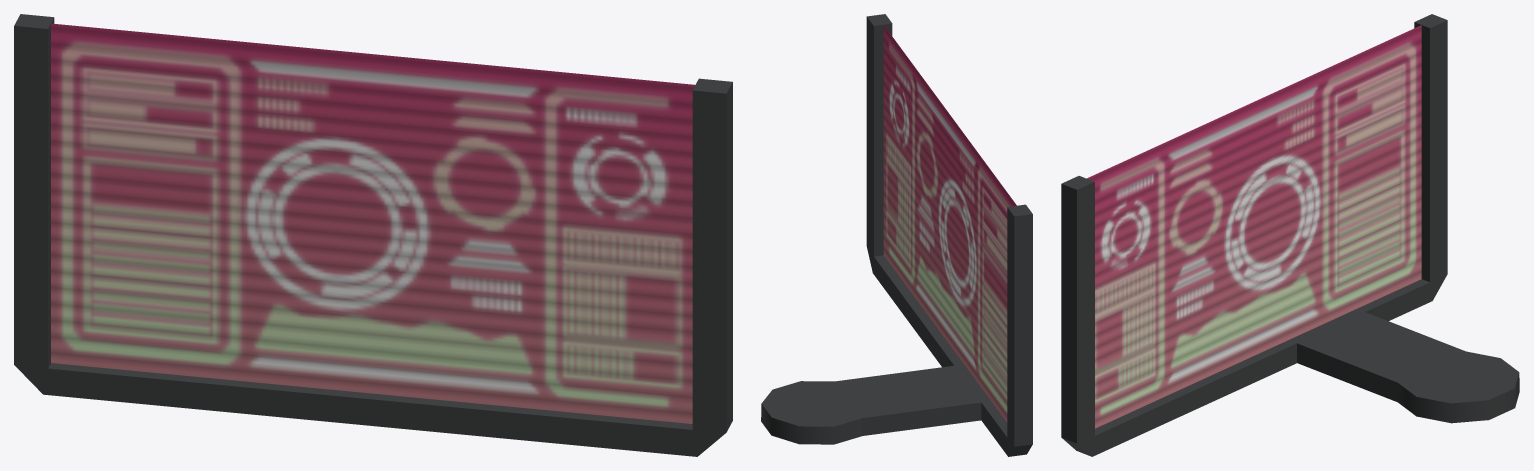
The model's file is Terminal_005_monitor_002.fbx.
The picture shows the model from 3 angles, left to right: view 1: azimuth 30°, elevation 25°; view 2: azimuth 150°, elevation 25°; view 3: azimuth 270°, elevation 25°; orthographic projection. The views are drawn at different scales.
Visible parts, largest first — view 1: Terminal_005_monitor_002; view 2: Terminal_005_monitor_002; view 3: Terminal_005_monitor_002.
Part boxes in pixels (x1=…): Terminal_005_monitor_002: x1=14, y1=14, x2=732, y2=456; Terminal_005_monitor_002: x1=761, y1=14, x2=1032, y2=456; Terminal_005_monitor_002: x1=1061, y1=14, x2=1519, y2=456.
Bounding box in the file's own units: 41.79 × 46.01 × 30.35.
